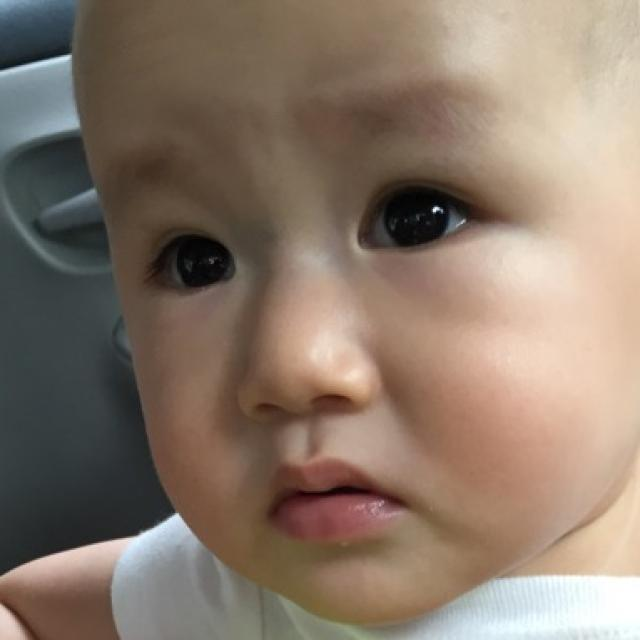Depress: (70, 0, 638, 633)
